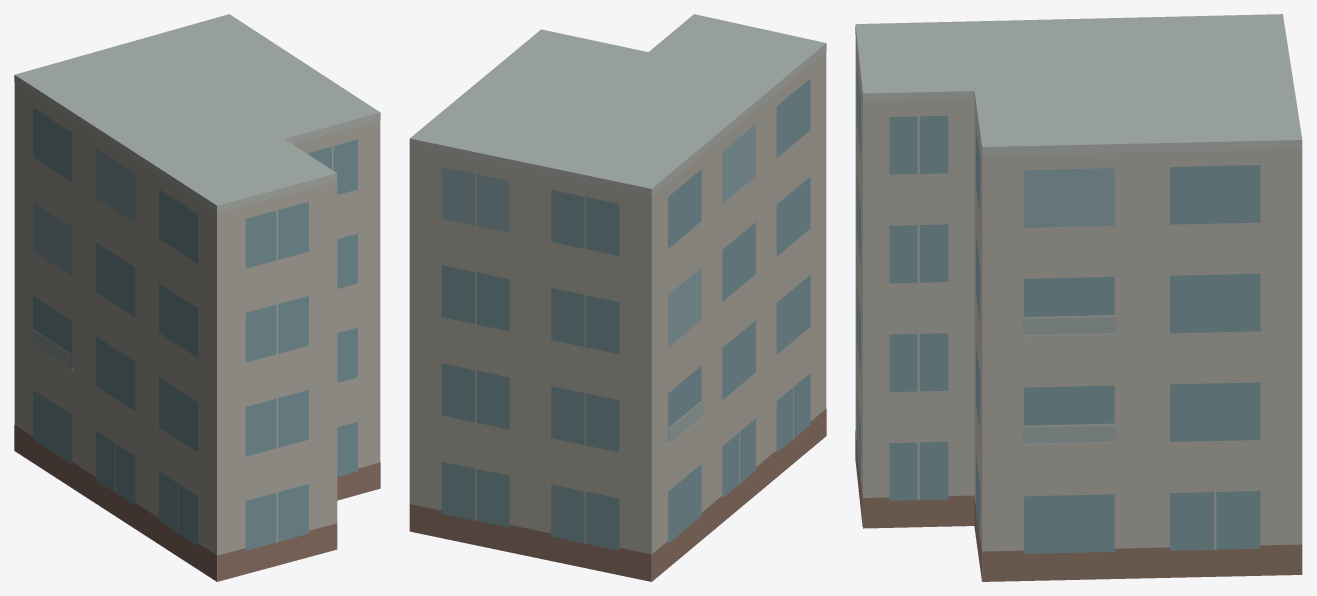
The model's file is survey-upis-33004181.glb.
The picture shows the model from 3 angles, left to right: view 1: azimuth 30°, elevation 25°; view 2: azimuth 150°, elevation 25°; view 3: azimuth 270°, elevation 25°; orthographic projection. The views are drawn at different scales.
Visible parts, largest first — view 1: survey-upis-33004181.tmp; view 2: survey-upis-33004181.tmp; view 3: survey-upis-33004181.tmp.
Boxes of the visible parts, box(x1,y1,x2,y2) form: survey-upis-33004181.tmp: box(14, 14, 380, 581); survey-upis-33004181.tmp: box(409, 14, 826, 581); survey-upis-33004181.tmp: box(855, 14, 1302, 581).
Size of the model in its own units: 7.82 by 11.9 by 11.1.
